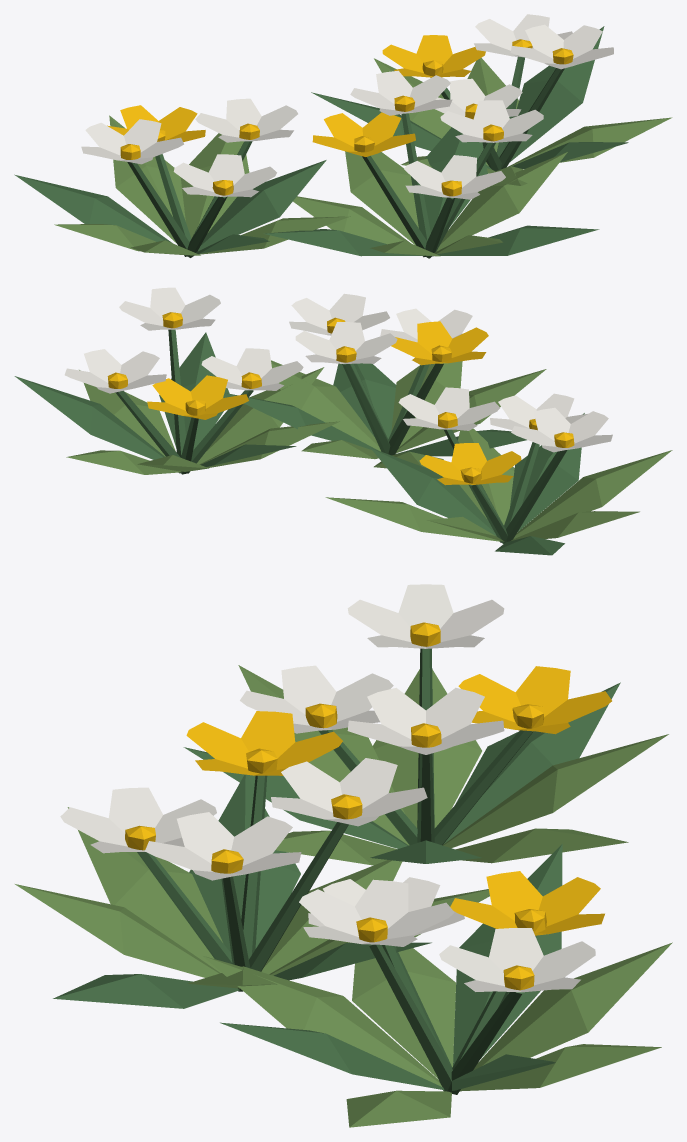
The model's file is GREEN_FLOWERS_01.glb.
3 views of the same model, one above another, from view 1: azimuth 30°, elevation 25°; view 2: azimuth 150°, elevation 25°; view 3: azimuth 270°, elevation 25° (orthographic). The views are drawn at different scales.
Visible parts, largest first — view 1: CIVRUM_GAME_GREEN_FLOWERS_01; view 2: CIVRUM_GAME_GREEN_FLOWERS_01; view 3: CIVRUM_GAME_GREEN_FLOWERS_01.
Boxes of the visible parts, x1,y1,x2,y2 form: CIVRUM_GAME_GREEN_FLOWERS_01: [14, 14, 672, 258]; CIVRUM_GAME_GREEN_FLOWERS_01: [14, 287, 672, 555]; CIVRUM_GAME_GREEN_FLOWERS_01: [15, 584, 672, 1127].
Bounding box in the file's own units: 1.2 × 0.2654 × 0.7602.
